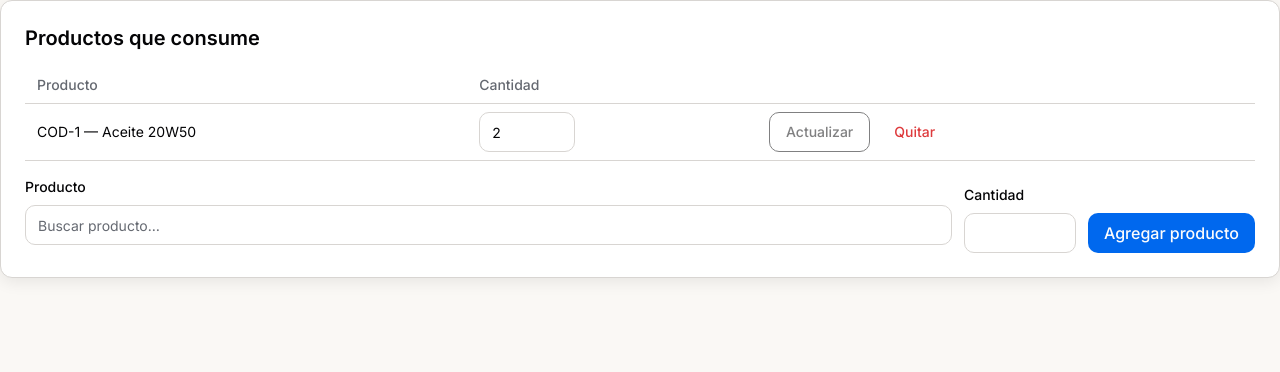
it: ServiceProductsSection › maps the already-exists error when adding a duplicate
The image size is (1280, 372).
expect the text "COD-1 — Aceite 20W50" is shown: met, box [25,104,467,160]
Click the dropdown labelled "Producto" at [488, 225], box [25,205,952,245]
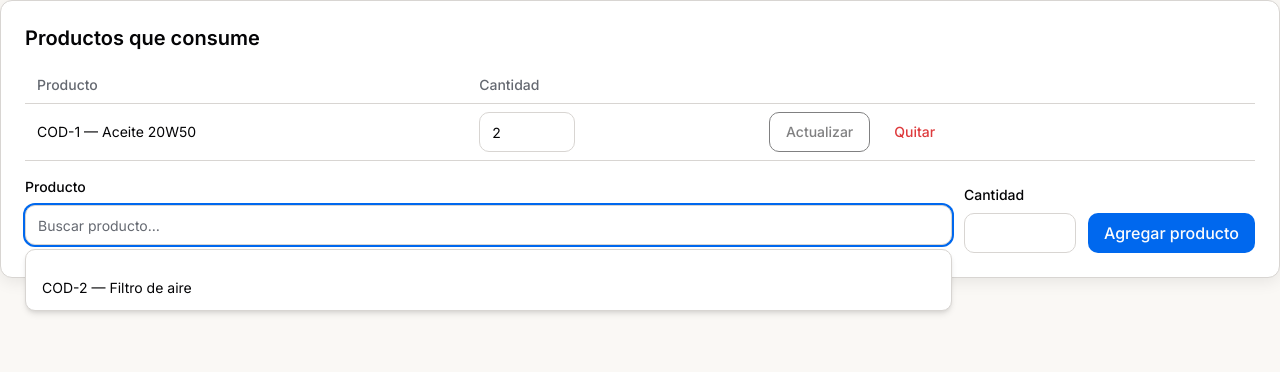
Click the option "COD-2 — Filtro de aire" at [117, 288], box [42,279,192,296]
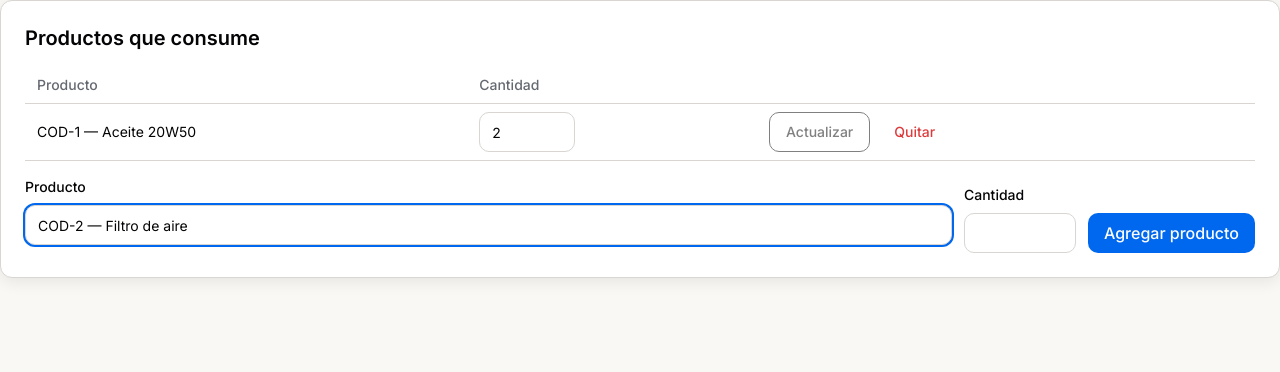
Type "3" into the number field labelled "Cantidad" at [1020, 233], box [964,213,1076,253]
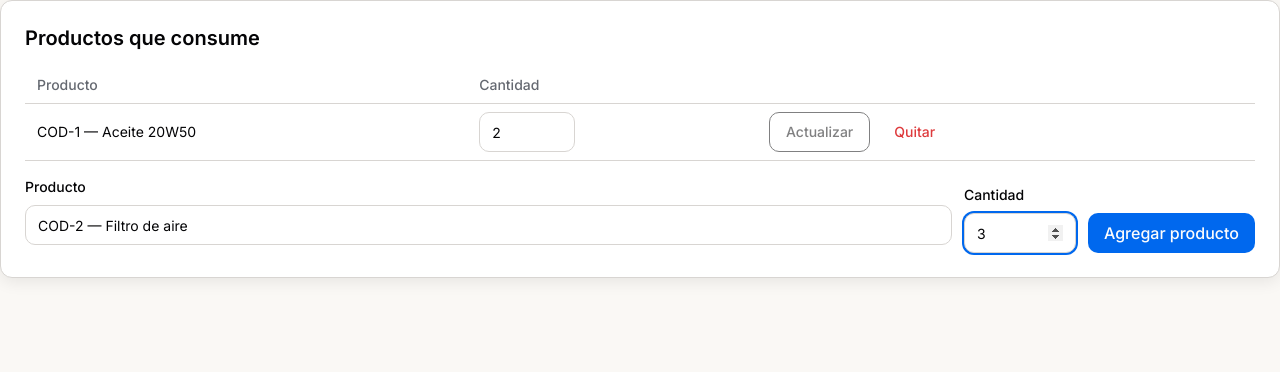
Click the button "Agregar producto" at [1172, 233], box [1088,213,1255,253]
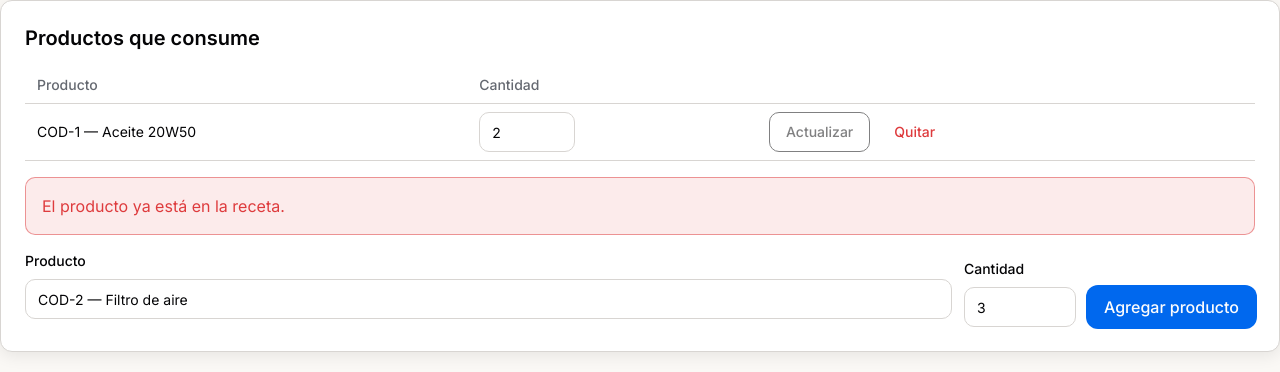
expect the text "El producto ya está en la receta." is shown: met, box [25,177,1255,235]
